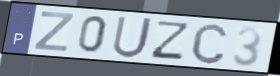0: (76, 14, 109, 55)
3: (231, 25, 265, 68)
C: (189, 22, 230, 66)
U: (110, 14, 156, 60)
Z: (32, 10, 77, 54), (148, 19, 193, 61)
